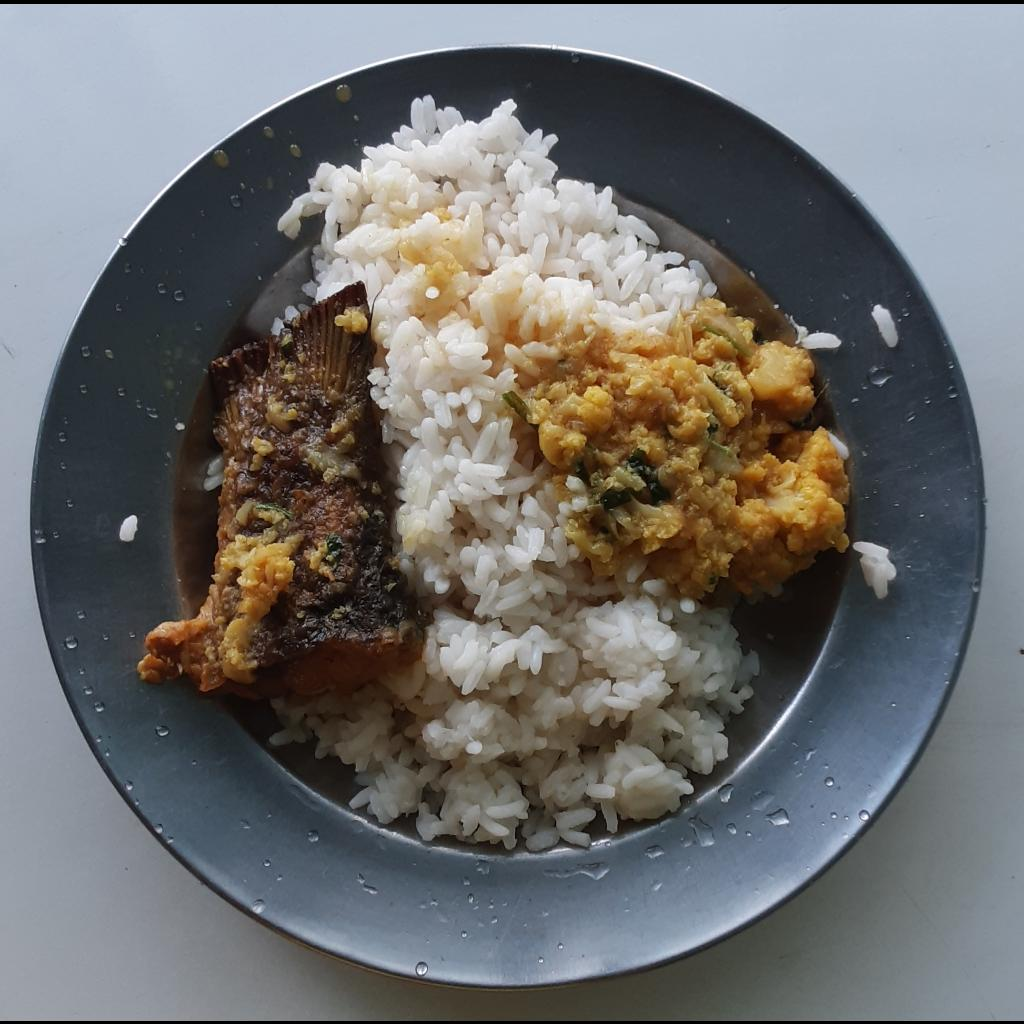cauliflower: (514, 293, 852, 599)
fish: (141, 279, 423, 704)
rice: (268, 91, 761, 850), (854, 538, 892, 593), (873, 296, 903, 349), (120, 514, 141, 543), (804, 330, 842, 345)
